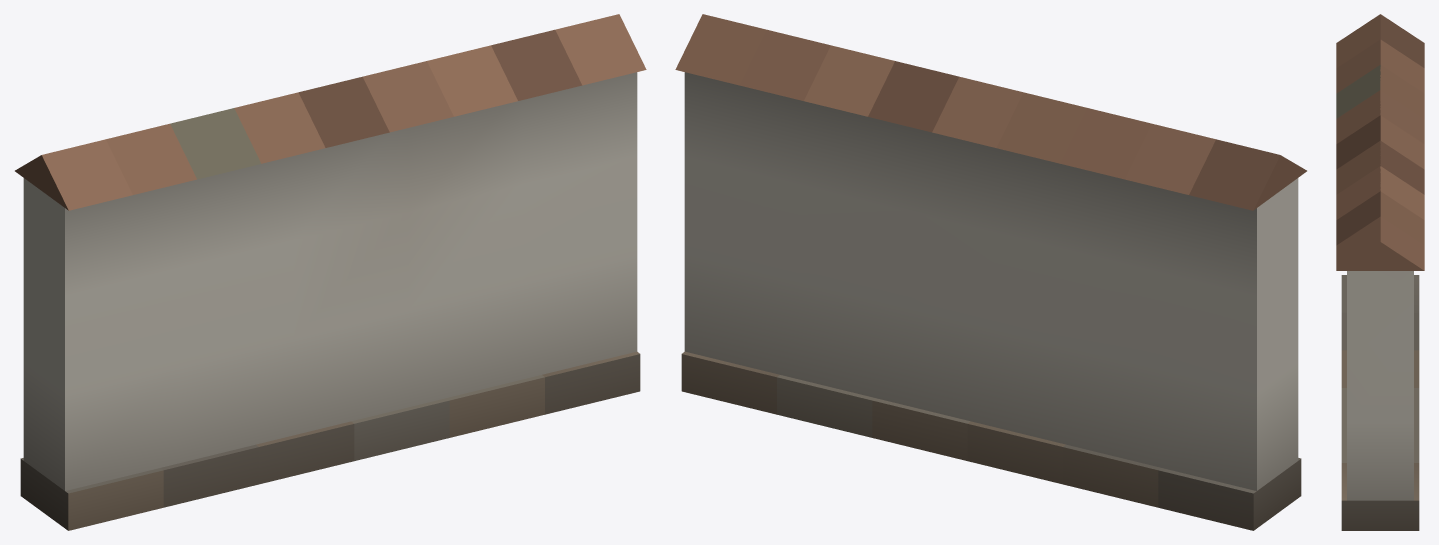
Rendered from casa_tapia_cal_b.glb.
The picture shows the model from 3 angles, left to right: view 1: azimuth 30°, elevation 25°; view 2: azimuth 150°, elevation 25°; view 3: azimuth 270°, elevation 25°; orthographic projection. The views are drawn at different scales.
Parts seen in each view (by area): view 1: casa_tapia_cal_b; view 2: casa_tapia_cal_b; view 3: casa_tapia_cal_b.
Part boxes in pixels (bbox=[...]): casa_tapia_cal_b: bbox=[15, 14, 646, 530]; casa_tapia_cal_b: bbox=[675, 14, 1306, 530]; casa_tapia_cal_b: bbox=[1336, 14, 1424, 530].
Size of the model in its own units: 4.04 by 2.4 by 0.66.
